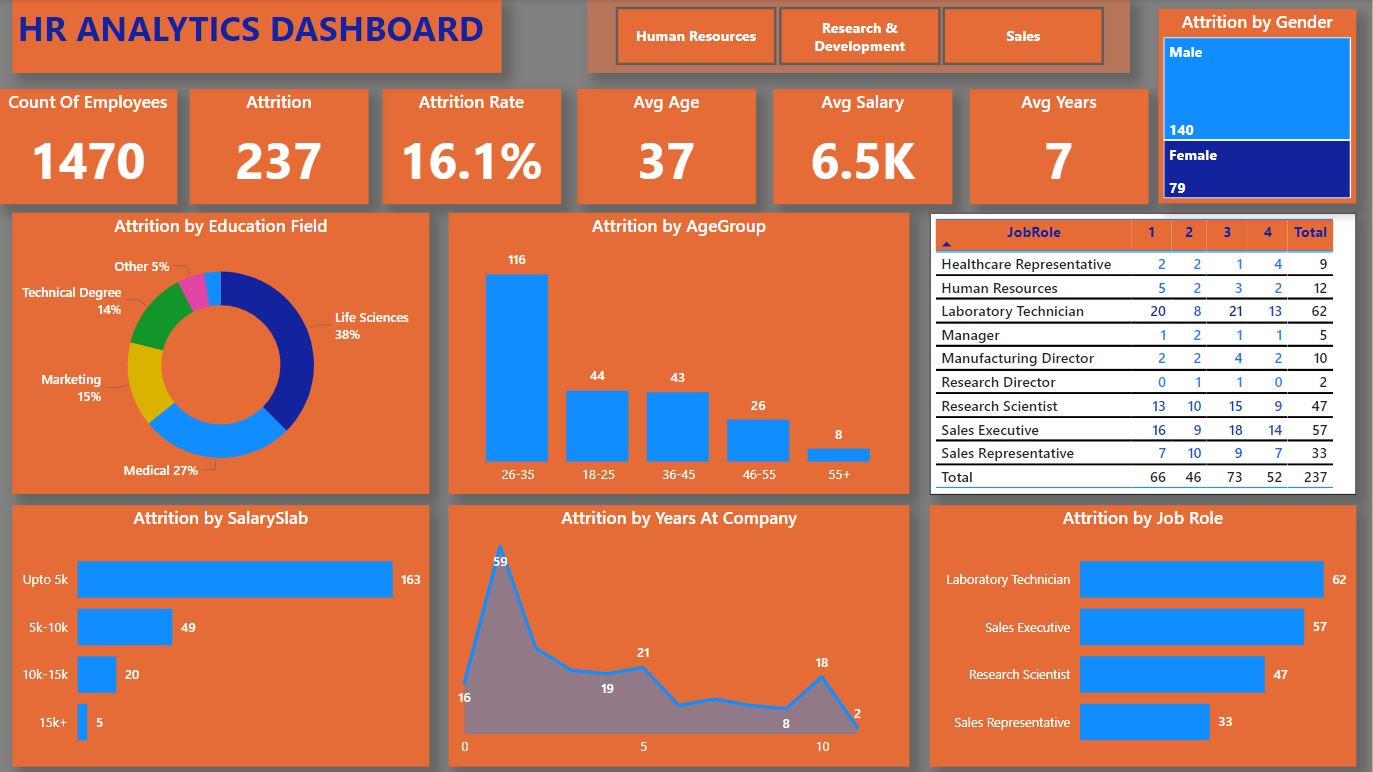

Layout of this report page (visuals, bound fields, positions):
{"tool":"powerbi","page":{"name":"Home","canvas":[1280,720],"ordinal":0},"visuals":[{"type":"card","title":"Count Of Employees","fields":{"Values":["CountNonNull(HR_Analytics (1).EmpID)"]},"box":[2.7,83.7,166,107],"z":0},{"type":"card","title":"Avg Age","fields":{"Values":["Avg(HR_Analytics (1).Age)"]},"box":[540.7,83.7,166,107],"z":1000},{"type":"card","title":"Attrition Rate","fields":{"Values":["HR_Analytics (1).AttritionRate"]},"box":[359.5,83.7,166,107],"z":2000},{"type":"card","title":"Attrition","fields":{"Values":["Sum(HR_Analytics (1).AttritionCount)"]},"box":[179.8,83.7,166,107],"z":3000},{"type":"card","title":"Avg Salary","fields":{"Values":["Avg(HR_Analytics (1).MonthlyIncome)"]},"box":[723.2,83.7,166,107],"z":4000},{"type":"card","title":"Avg Years","fields":{"Values":["Avg(HR_Analytics (1).YearsAtCompany)"]},"box":[905.7,83.7,166,107],"z":5000},{"type":"donutChart","title":"Attrition by Education Field","fields":{"Category":["HR_Analytics (1).EducationField"],"Y":["Sum(HR_Analytics (1).AttritionCount)"]},"box":[15.1,198.8,388.4,261.6],"z":6000},{"type":"columnChart","title":"Attrition by AgeGroup","fields":{"Category":["HR_Analytics (1).AgeGroup"],"Y":["Sum(HR_Analytics (1).AttritionCount)"]},"box":[420.9,198.8,429.1,261.6],"z":7000},{"type":"pivotTable","fields":{"Rows":["HR_Analytics (1).JobRole"],"Columns":["HR_Analytics (1).JobSatisfaction"],"Values":["Sum(HR_Analytics (1).AttritionCount)"]},"box":[868.6,199,396.6,262.1],"z":8000},{"type":"barChart","title":"Attrition by SalarySlab","fields":{"Category":["HR_Analytics (1).SalarySlab"],"Y":["Sum(HR_Analytics (1).AttritionCount)"]},"box":[15.1,470.9,388.4,243],"z":9000},{"type":"barChart","title":"Attrition by Job Role","fields":{"Y":["Sum(HR_Analytics (1).AttritionCount)"],"Category":["HR_Analytics (1).JobRole"]},"box":[868.6,470.7,396.6,242.9],"z":10000},{"type":"areaChart","title":"Attrition by Years At Company","fields":{"Category":["HR_Analytics (1).YearsAtCompany"],"Y":["Sum(HR_Analytics (1).AttritionCount)"]},"box":[420.9,470.9,429.1,243],"z":11000},{"type":"treemap","title":"Attrition by Gender","fields":{"Values":["Sum(HR_Analytics (1).AttritionCount)"],"Group":["HR_Analytics (1).Gender"]},"box":[1081.3,9.6,183.9,181.1],"z":12000},{"type":"slicer","title":"Attrition by AgeGroup","fields":{"Values":["HR_Analytics (1).Department"]},"box":[550.3,0,505,68.6],"z":13000},{"type":"textbox","box":[15.1,0,455.6,68.6],"z":14000}]}

Visuals, with their boxes in screenshot pixels (x1, y1, x2, y2), scaled from the page's 1280x720 canvas onto the 1373x772 screenshot:
"Count Of Employees" card: l=3, t=90, r=181, b=204
"Avg Age" card: l=580, t=90, r=758, b=204
"Attrition Rate" card: l=386, t=90, r=564, b=204
"Attrition" card: l=193, t=90, r=371, b=204
"Avg Salary" card: l=776, t=90, r=954, b=204
"Avg Years" card: l=972, t=90, r=1150, b=204
"Attrition by Education Field" donutChart: l=16, t=213, r=433, b=494
"Attrition by AgeGroup" columnChart: l=451, t=213, r=912, b=494
pivotTable - HR_Analytics (1).JobRole x HR_Analytics (1).JobSatisfaction: l=932, t=213, r=1357, b=494
"Attrition by SalarySlab" barChart: l=16, t=505, r=433, b=765
"Attrition by Job Role" barChart: l=932, t=505, r=1357, b=765
"Attrition by Years At Company" areaChart: l=451, t=505, r=912, b=765
"Attrition by Gender" treemap: l=1160, t=10, r=1357, b=204
"Attrition by AgeGroup" slicer: l=590, t=0, r=1132, b=74
textbox: l=16, t=0, r=505, b=74
